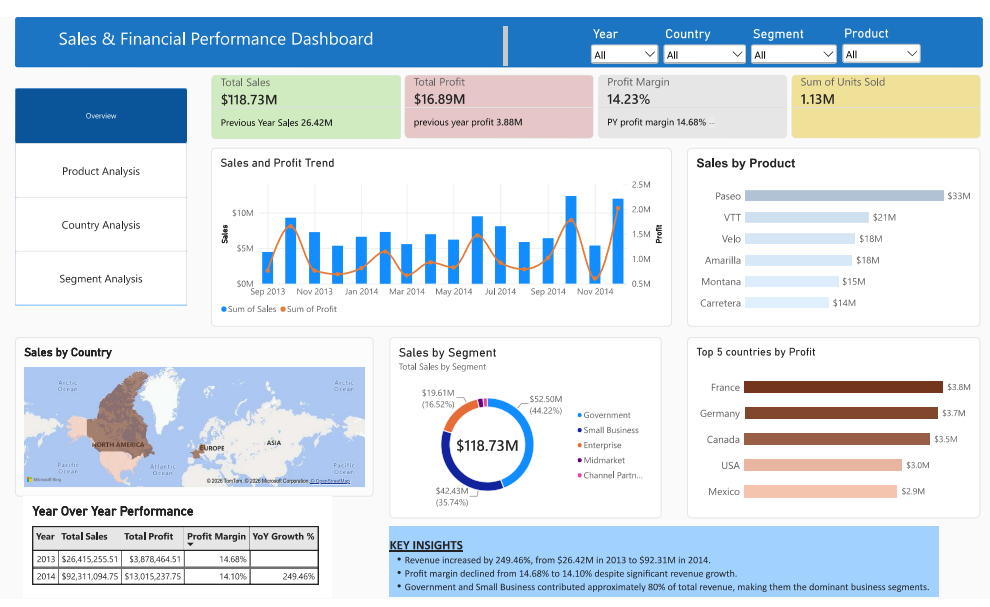

The dashboard page shown, as its layout file describes it:
{"tool":"powerbi","page":{"name":"Overview","canvas":[1920,1080],"ordinal":0},"visuals":[{"type":"clusteredBarChart","title":"Sales by Product","fields":{"Category":["financials.Product"],"Y":["Sum(financials.Sales)"]},"box":[1349.2,243,545.1,331.6],"z":0},{"type":"clusteredBarChart","title":"Top 5 countries by Profit","fields":{"Category":["financials.Country"],"Y":["financials.Total Profit"]},"box":[1349.2,595.1,545.1,336.2],"z":1000},{"type":"cardVisual","fields":{"Data":["financials.Total Sales","financials.Total Profit","financials.Profit Margin","Sum(financials.Units Sold)"]},"box":[463.3,106.8,1435.5,118.1],"z":2000},{"type":"filledMap","title":"Sales by Country","fields":{"Category":["financials.Country"]},"box":[97.7,595.1,667.1,296],"z":3000},{"type":"donutChart","title":"Sales by Segment","fields":{"Category":["financials.Segment"],"Y":["financials.Total Sales"]},"box":[795,595.1,506.5,336.2],"z":4000},{"type":"tableEx","title":"Year Over Year Performance","fields":{"Values":["Date.Date.Variation.Date Hierarchy.Year","financials.Total Sales","financials.Total Profit","financials.Profit Margin","financials.YoY Growth %"]},"box":[113.6,890.4,574.6,188.5],"z":5000},{"type":"lineStackedColumnComboChart","title":"Sales and Profit Trend","fields":{"Category":["financials.Date"],"Y":["Sum(financials.Sales)"],"Y2":["Sum(financials.Profit)"]},"box":[463.3,243.3,856.7,331.7],"z":6000},{"type":"textbox","box":[484.3,136,276.8,76.3],"z":7000},{"type":"textbox","box":[114.5,0,369.8,59.6],"z":8000},{"type":"shape","box":[97.7,0,1801.1,93.1],"z":9000},{"type":"textbox","box":[179.4,15.9,835.8,77.2],"z":10000},{"type":"textbox","box":[1513,873,360,177],"z":11000},{"type":"slicer","fields":{"Values":["financials.Year"]},"box":[1165,16.7,135,73.3],"z":12000},{"type":"slicer","fields":{"Values":["financials.Country"]},"box":[1300.3,16.7,162.2,74],"z":13000},{"type":"slicer","fields":{"Values":["financials.Segment"]},"box":[1462.6,16.7,169.4,116.9],"z":14000},{"type":"slicer","fields":{"Values":["financials.Product"]},"box":[1633.1,15.9,154.4,81.8],"z":15000},{"type":"pageNavigator","box":[97.9,132,320.3,404.3],"z":16000},{"type":"textbox","box":[48.3,666.7,1050,96.7],"z":16001},{"type":"textbox","box":[795,946.7,1021.7,131.7],"z":16002}]}

Visuals, with their boxes on the page's 1920x1080 design canvas (x1, y1, x2, y2). These are canvas units, not pixel positions in the 990x607 screenshot, which may show the page scaled, cropped or inside an application window:
"Sales by Product" clusteredBarChart: <bbox>1349, 243, 1894, 575</bbox>
"Top 5 countries by Profit" clusteredBarChart: <bbox>1349, 595, 1894, 931</bbox>
cardVisual - financials.Total Sales x financials.Total Profit: <bbox>463, 107, 1899, 225</bbox>
"Sales by Country" filledMap: <bbox>98, 595, 765, 891</bbox>
"Sales by Segment" donutChart: <bbox>795, 595, 1302, 931</bbox>
"Year Over Year Performance" tableEx: <bbox>114, 890, 688, 1079</bbox>
"Sales and Profit Trend" lineStackedColumnComboChart: <bbox>463, 243, 1320, 575</bbox>
textbox: <bbox>484, 136, 761, 212</bbox>
textbox: <bbox>114, 0, 484, 60</bbox>
shape: <bbox>98, 0, 1899, 93</bbox>
textbox: <bbox>179, 16, 1015, 93</bbox>
textbox: <bbox>1513, 873, 1873, 1050</bbox>
slicer - financials.Year: <bbox>1165, 17, 1300, 90</bbox>
slicer - financials.Country: <bbox>1300, 17, 1462, 91</bbox>
slicer - financials.Segment: <bbox>1463, 17, 1632, 134</bbox>
slicer - financials.Product: <bbox>1633, 16, 1788, 98</bbox>
pageNavigator: <bbox>98, 132, 418, 536</bbox>
textbox: <bbox>48, 667, 1098, 763</bbox>
textbox: <bbox>795, 947, 1817, 1078</bbox>
